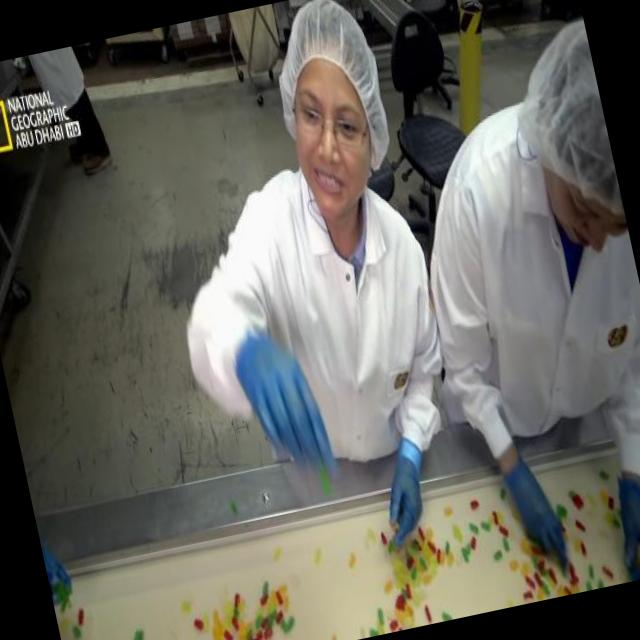hairnet: (508, 20, 623, 224), (262, 0, 379, 106)
